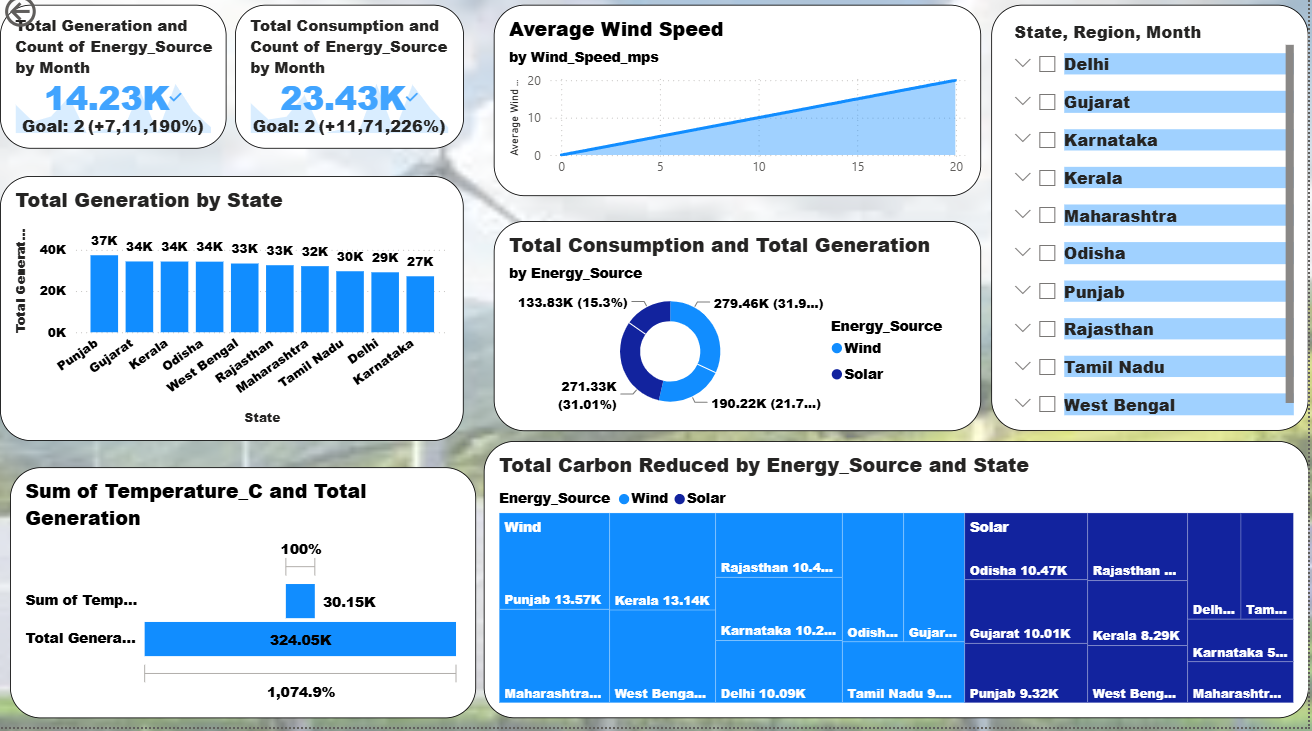

This screenshot's page, from the dashboard's own definition file:
{"tool":"powerbi","page":{"name":"Page 1","canvas":[1280,720],"ordinal":0},"visuals":[{"type":"kpi","fields":{"Indicator":["Renewable_Energy_Analytics_Dataset_1000.Total Generation"],"Goal":["CountNonNull(Energy_source.Energy_Source)"],"TrendLine":["Date.Month"]},"box":[0,13.5,221.3,140.6],"z":0},{"type":"kpi","fields":{"Indicator":["Renewable_Energy_Analytics_Dataset_1000.Total Consumption"],"TrendLine":["Date.Month"],"Goal":["CountNonNull(Energy_source.Energy_Source)"]},"box":[229.9,13.5,223.8,140.6],"z":1000},{"type":"columnChart","fields":{"Category":["Renewable_Energy_Analytics_Dataset_1000.State"],"Y":["Renewable_Energy_Analytics_Dataset_1000.Total Generation"]},"box":[0,181,453.7,259.2],"z":2000},{"type":"funnel","fields":{"Y":["Sum(Renewable_Energy_Analytics_Dataset_1000.Temperature_C)","Renewable_Energy_Analytics_Dataset_1000.Total Generation"]},"box":[9.8,465.9,456.1,245.8],"z":3000},{"type":"areaChart","fields":{"Category":["Renewable_Energy_Analytics_Dataset_1000.Wind_Speed_mps"],"Y":["Renewable_Energy_Analytics_Dataset_1000.Average Wind Speed"]},"box":[483,13.5,476.9,187.1],"z":4000},{"type":"donutChart","fields":{"Category":["Renewable_Energy_Analytics_Dataset_1000.Energy_Source"],"Y":["Renewable_Energy_Analytics_Dataset_1000.Total Consumption","Renewable_Energy_Analytics_Dataset_1000.Total Generation"]},"box":[483,225,476.9,205.4],"z":5000},{"type":"slicer","fields":{"Values":["Renewable_Energy_Analytics_Dataset_1000.State","Renewable_Energy_Analytics_Dataset_1000.Region","Renewable_Energy_Analytics_Dataset_1000.Month"]},"box":[969.7,13.5,310.6,417],"z":6000},{"type":"actionButton","box":[0,0,100,40],"z":7000},{"type":"treemap","fields":{"Group":["Renewable_Energy_Analytics_Dataset_1000.Energy_Source"],"Values":["Renewable_Energy_Analytics_Dataset_1000.Total Carbon Reduced"],"Details":["Renewable_Energy_Analytics_Dataset_1000.State"]},"box":[473.2,440.2,807.1,271.5],"z":8000}]}

Visuals, with their boxes in screenshot pixels (x1, y1, x2, y2), scaled from the page's 1280x720 canvas onto the 1312x731 screenshot:
kpi - Renewable_Energy_Analytics_Dataset_1000.Total Generation x CountNonNull(Energy_source.Energy_Source): {"left": 0, "top": 14, "right": 227, "bottom": 156}
kpi - Renewable_Energy_Analytics_Dataset_1000.Total Consumption x Date.Month: {"left": 236, "top": 14, "right": 465, "bottom": 156}
columnChart - Renewable_Energy_Analytics_Dataset_1000.State x Renewable_Energy_Analytics_Dataset_1000.Total Generation: {"left": 0, "top": 184, "right": 465, "bottom": 447}
funnel - Sum(Renewable_Energy_Analytics_Dataset_1000.Temperature_C) x Renewable_Energy_Analytics_Dataset_1000.Total Generation: {"left": 10, "top": 473, "right": 478, "bottom": 723}
areaChart - Renewable_Energy_Analytics_Dataset_1000.Wind_Speed_mps x Renewable_Energy_Analytics_Dataset_1000.Average Wind Speed: {"left": 495, "top": 14, "right": 984, "bottom": 204}
donutChart - Renewable_Energy_Analytics_Dataset_1000.Energy_Source x Renewable_Energy_Analytics_Dataset_1000.Total Consumption: {"left": 495, "top": 228, "right": 984, "bottom": 437}
slicer - Renewable_Energy_Analytics_Dataset_1000.State x Renewable_Energy_Analytics_Dataset_1000.Region: {"left": 994, "top": 14, "right": 1311, "bottom": 437}
actionButton: {"left": 0, "top": 0, "right": 102, "bottom": 41}
treemap - Renewable_Energy_Analytics_Dataset_1000.Energy_Source x Renewable_Energy_Analytics_Dataset_1000.Total Carbon Reduced: {"left": 485, "top": 447, "right": 1311, "bottom": 723}
